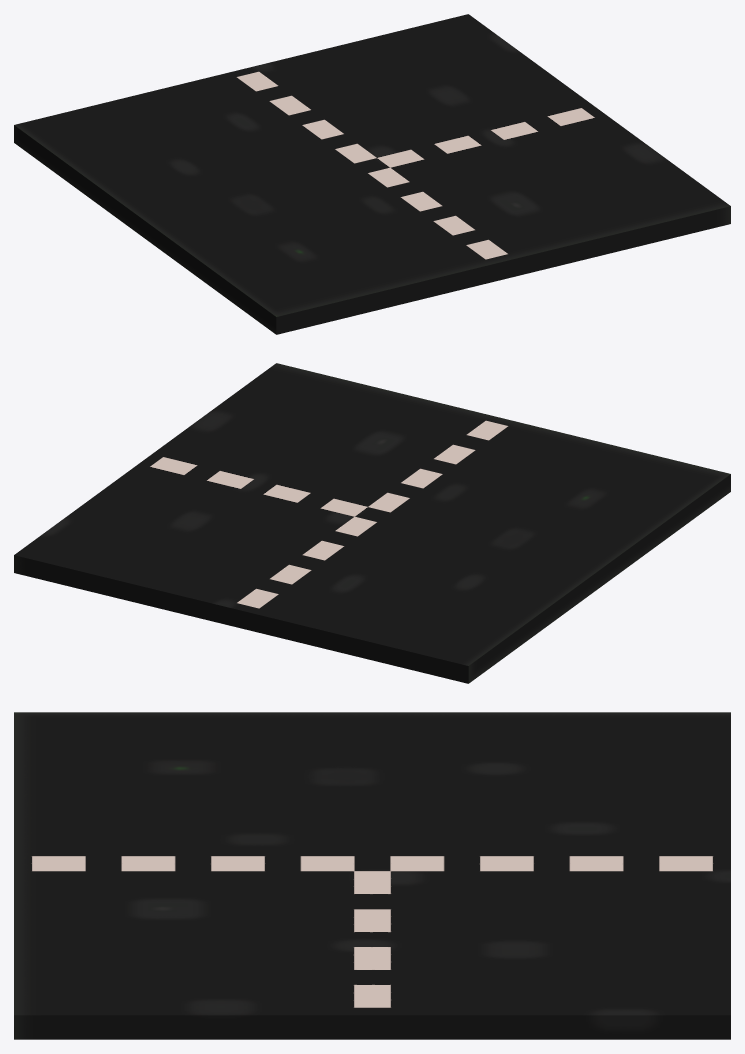
File: road_8x8_t_intersecction_00.glb
The picture shows the model from 3 angles, top to bottom: view 1: azimuth 30°, elevation 25°; view 2: azimuth 150°, elevation 25°; view 3: azimuth 270°, elevation 25°; orthographic projection. The views are drawn at different scales.
Visible parts, largest first — view 1: road_8x8_t_intersection_00; view 2: road_8x8_t_intersection_00; view 3: road_8x8_t_intersection_00.
Boxes of the visible parts, x1,y1,x2,y2 form: road_8x8_t_intersection_00: (14,14,730,334); road_8x8_t_intersection_00: (14,363,730,683); road_8x8_t_intersection_00: (14,712,730,1039).
Size of what is drawn, in the model's own units: 8 by 0.3 by 8.
1 material, 1 textured.
